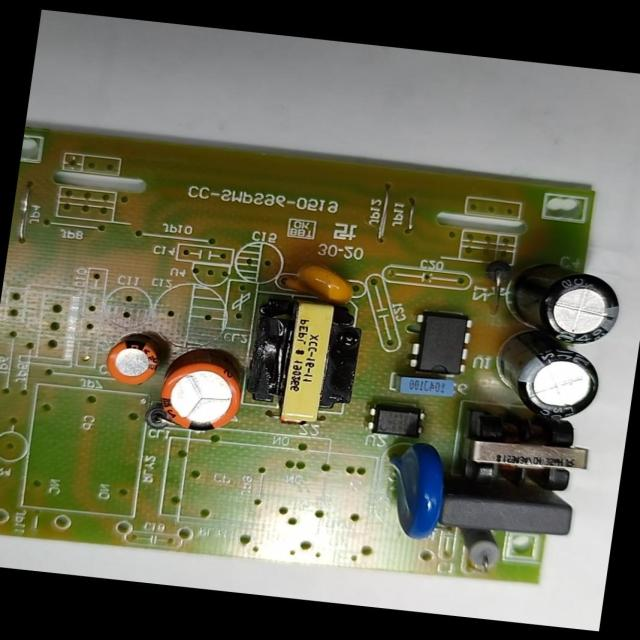Cap1: (153, 357, 246, 438)
Cap2: (101, 330, 162, 389)
Cap3: (484, 330, 607, 425)
Cap4: (499, 262, 625, 350)
MOSFET: (404, 308, 477, 379)
Mov: (374, 438, 453, 542)
Resistor: (451, 527, 507, 574)
Transformer: (244, 294, 366, 424), (452, 405, 596, 503)
